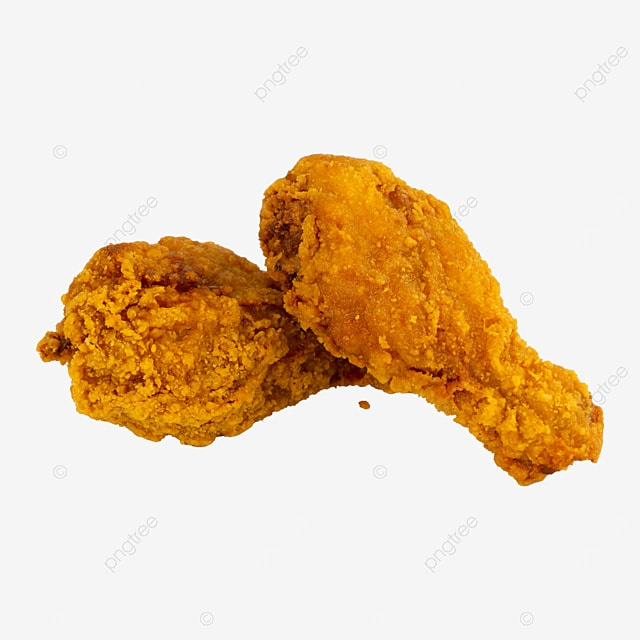ayam_goreng: (255, 134, 617, 490), (56, 229, 511, 451)
